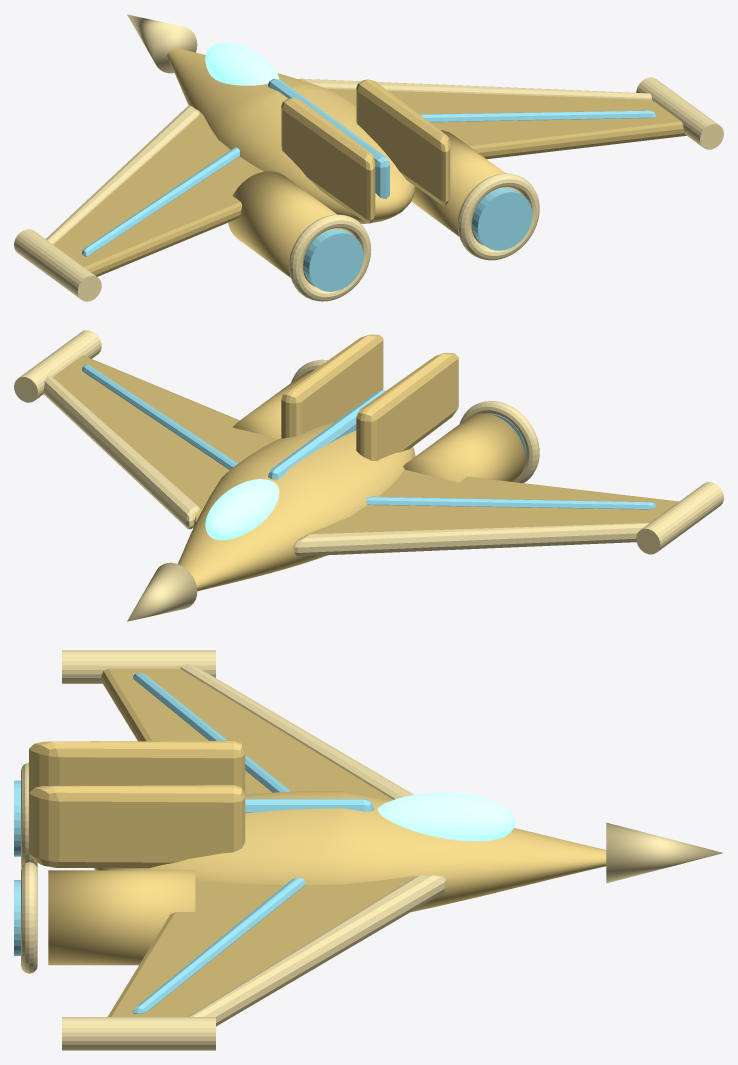
File: SM_Ship_Sunborn.fbx
3 renders of one model, top to bottom at view 1: azimuth 30°, elevation 25°; view 2: azimuth 150°, elevation 25°; view 3: azimuth 270°, elevation 25°, orthographic. The views are drawn at different scales.
Visible parts, largest first — view 1: SM_Ship_Sunborn; view 2: SM_Ship_Sunborn; view 3: SM_Ship_Sunborn.
Boxes of the visible parts, box(x1,y1,x2,y2) form: SM_Ship_Sunborn: box(14, 14, 723, 301); SM_Ship_Sunborn: box(14, 330, 723, 621); SM_Ship_Sunborn: box(14, 650, 722, 1050).
Bounding box in the file's own units: 3.22 × 0.61 × 2.54.
